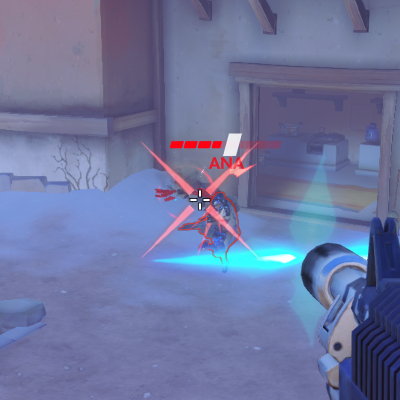hpbar: (169, 139, 281, 150)
